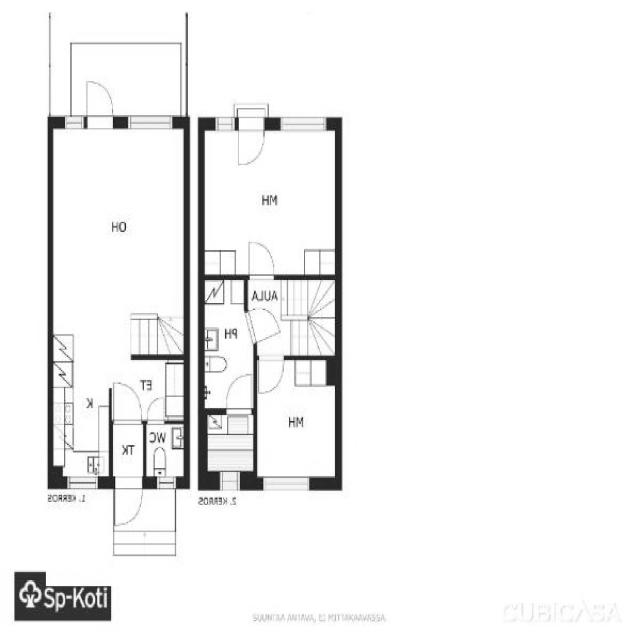door: (256, 363, 339, 481), (202, 279, 255, 412), (80, 74, 117, 132), (234, 112, 266, 173), (242, 236, 278, 284), (112, 477, 145, 529), (246, 304, 284, 345), (113, 380, 146, 425), (223, 369, 255, 414), (256, 353, 286, 396), (146, 394, 167, 426)
window: (273, 110, 333, 137), (121, 110, 179, 136), (256, 472, 315, 496), (58, 110, 88, 134), (63, 474, 102, 492), (217, 469, 243, 491), (153, 476, 181, 494)
zone: (47, 118, 189, 360), (202, 121, 340, 278), (256, 360, 339, 483), (198, 276, 254, 417), (202, 410, 255, 477), (145, 422, 187, 485), (112, 419, 144, 480)
